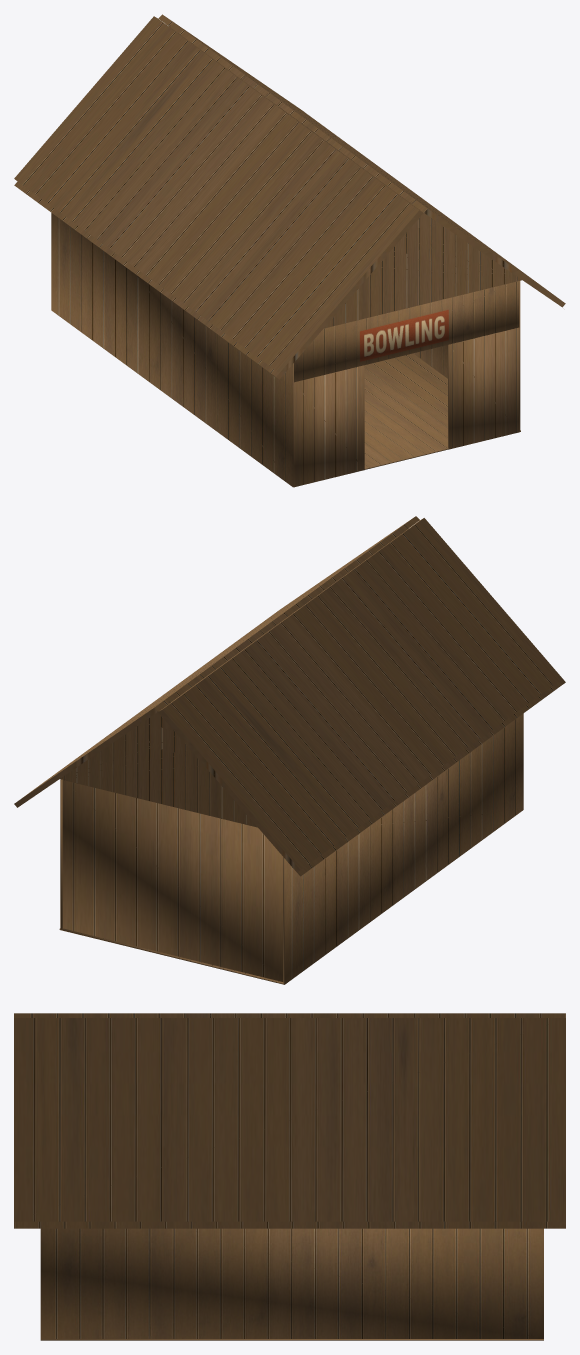
File: StandBolos.obj
3 renders of one model, top to bottom at view 1: azimuth 30°, elevation 25°; view 2: azimuth 150°, elevation 25°; view 3: azimuth 270°, elevation 25°, orthographic. The views are drawn at different scales.
Parts seen in each view (by area): view 1: TechoI, ParedI, Rotulo, FrontonD, Piso, ParedDD, ParedDI, TechoD, ParedD; view 2: TechoI, ParedT, ParedI, FrontonTT, TechoD, Piso; view 3: TechoD, ParedD, TechoI, Piso.
Part boxes in pixels (x1,y1,x2,y2): TechoI: (14, 16, 423, 379); ParedI: (51, 213, 293, 487); Rotulo: (294, 281, 519, 382); FrontonD: (324, 201, 521, 328); Piso: (364, 353, 520, 469); ParedDD: (448, 327, 519, 449); ParedDI: (294, 365, 364, 487); TechoD: (158, 14, 565, 307); ParedD: (281, 108, 520, 431); TechoI: (158, 518, 565, 876); ParedT: (62, 780, 283, 981); ParedI: (283, 713, 523, 984); FrontonTT: (60, 701, 257, 827); TechoD: (14, 516, 419, 807); Piso: (59, 928, 283, 984); TechoD: (14, 1018, 565, 1228); ParedD: (40, 1228, 543, 1338); TechoI: (14, 1013, 565, 1017); Piso: (40, 1339, 543, 1340).
Bounding box in the file's own units: 24.87 × 20.96 × 38.94.
2 materials, 2 textured.
